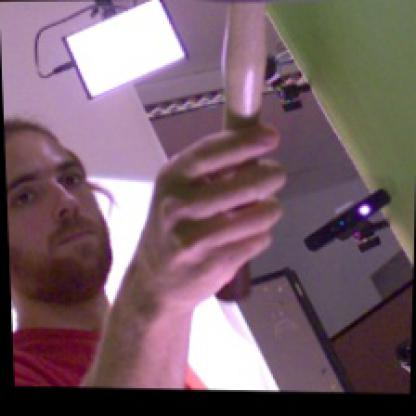Hand: (131, 124, 287, 306)
